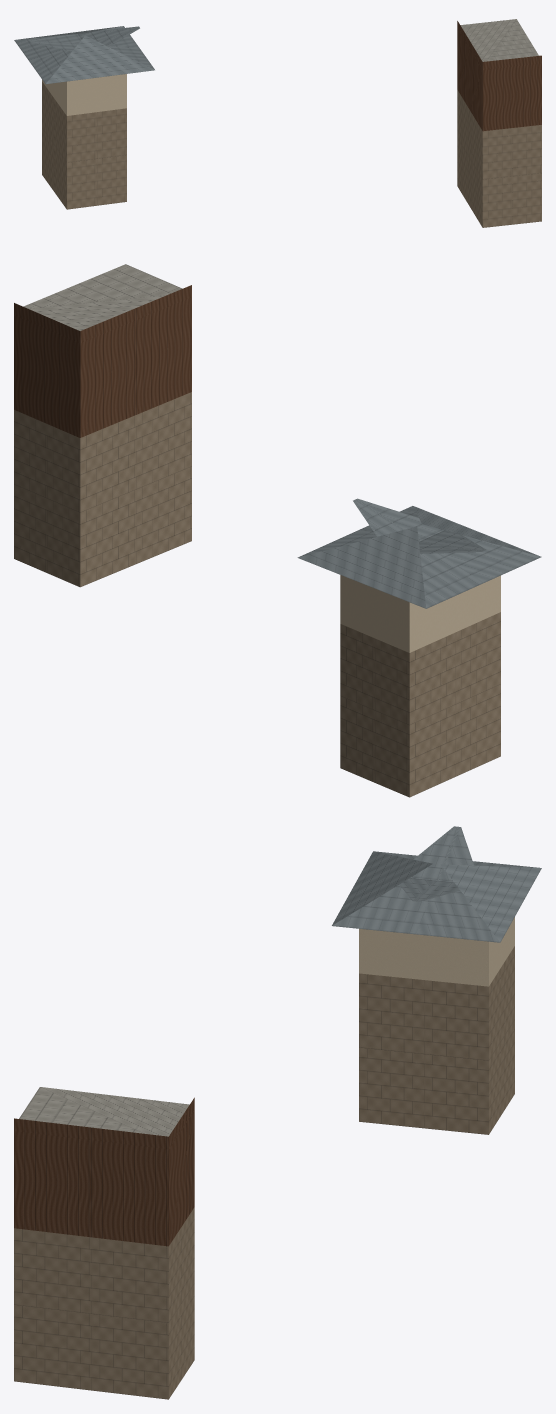
File: bld_c12_29_389.gltf
The picture shows the model from 3 angles, top to bottom: view 1: azimuth 30°, elevation 25°; view 2: azimuth 150°, elevation 25°; view 3: azimuth 270°, elevation 25°; orthographic projection. The views are drawn at different scales.
Visible parts, largest first — view 1: bld_c12_29_389; view 2: bld_c12_29_389; view 3: bld_c12_29_389.
Boxes of the visible parts, left/top/right/bottom form: bld_c12_29_389: left=14, top=19, right=541, bottom=227; bld_c12_29_389: left=14, top=264, right=541, bottom=797; bld_c12_29_389: left=14, top=826, right=541, bottom=1399.
Size of the model in its own units: 20.46 by 8.1 by 14.52.
Materials: 6 (6 with a texture image).
